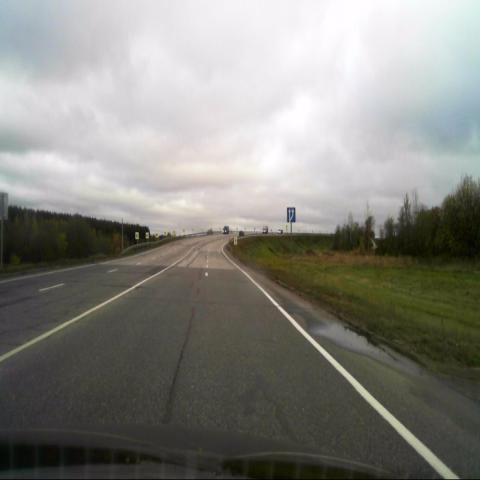5_15_3: (287, 207, 295, 222)
